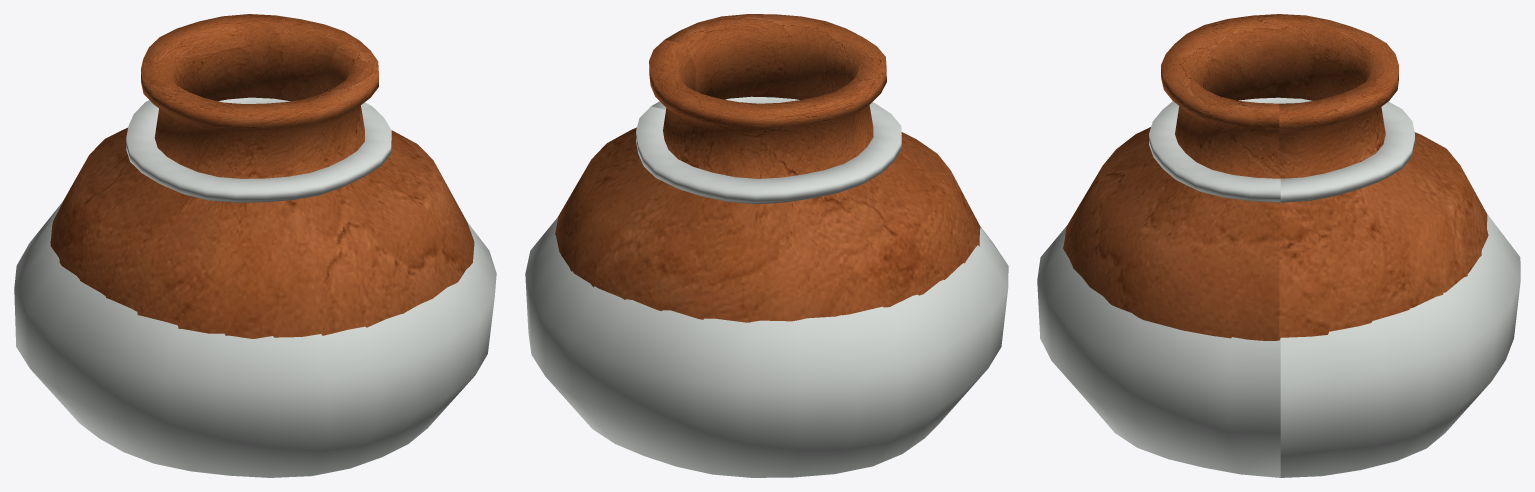
The model's file is prop_pots.glb.
3 views of the same model, side by side, from view 1: azimuth 30°, elevation 25°; view 2: azimuth 150°, elevation 25°; view 3: azimuth 270°, elevation 25° (orthographic).
Visible parts, largest first — view 1: clay_rice_pot, aluminium_handi; view 2: clay_rice_pot, aluminium_handi; view 3: clay_rice_pot, aluminium_handi.
Part boxes in pixels (<box>): clay_rice_pot: <box>50,14,474,338</box>; aluminium_handi: <box>14,97,496,477</box>; clay_rice_pot: <box>555,14,980,322</box>; aluminium_handi: <box>525,96,1008,477</box>; clay_rice_pot: <box>1063,14,1488,340</box>; aluminium_handi: <box>1037,97,1520,477</box>.
Bounding box in the file's own units: 0.38 × 0.3 × 0.38.
Materials: 3 (1 with a texture image).
